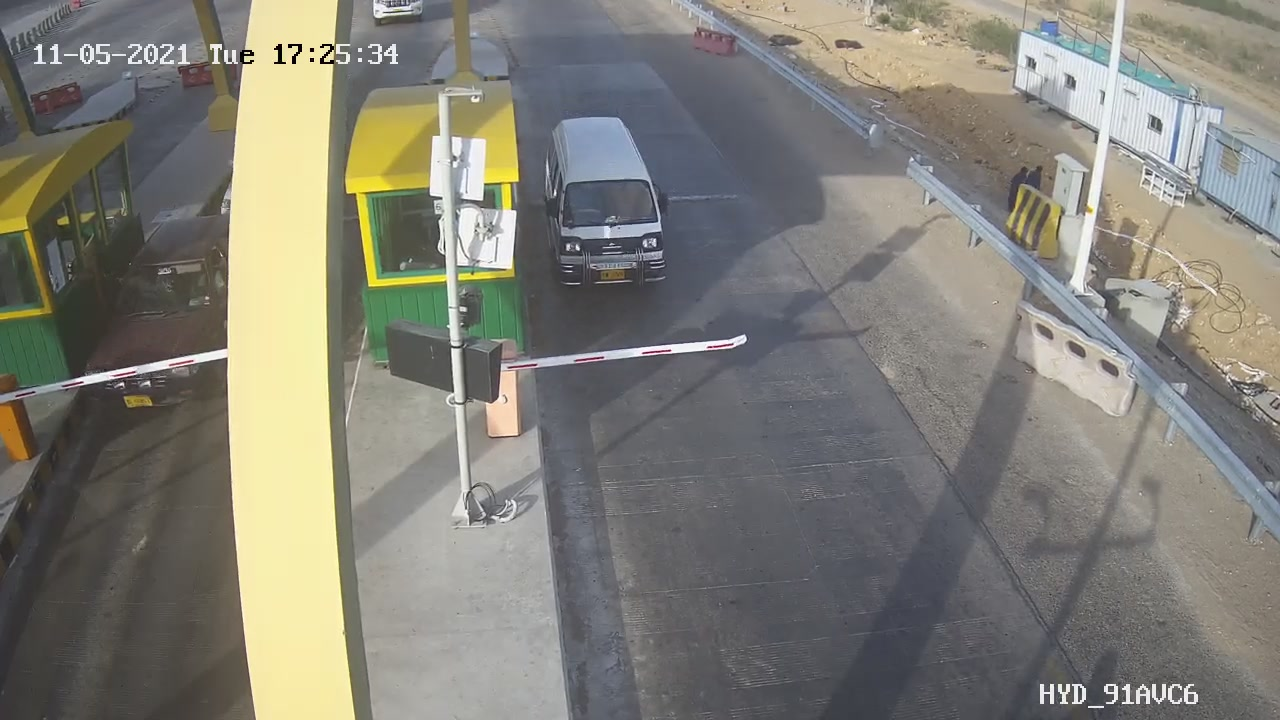F1: (525, 104, 687, 303)
